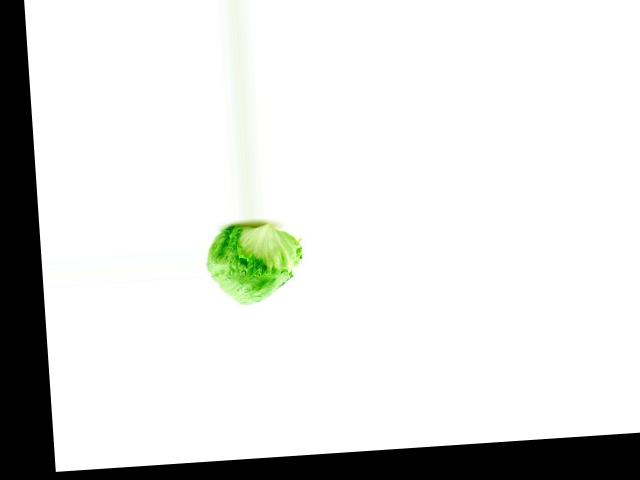lettuce: (201, 220, 305, 310)
